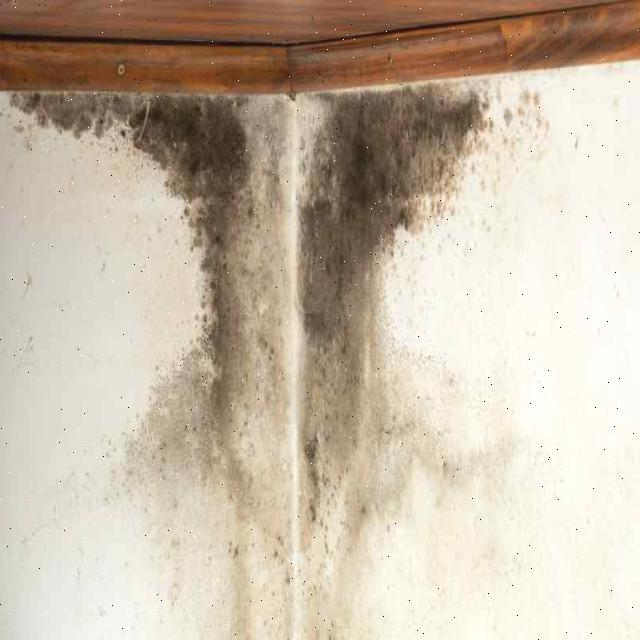dampens: (6, 29, 616, 579)
